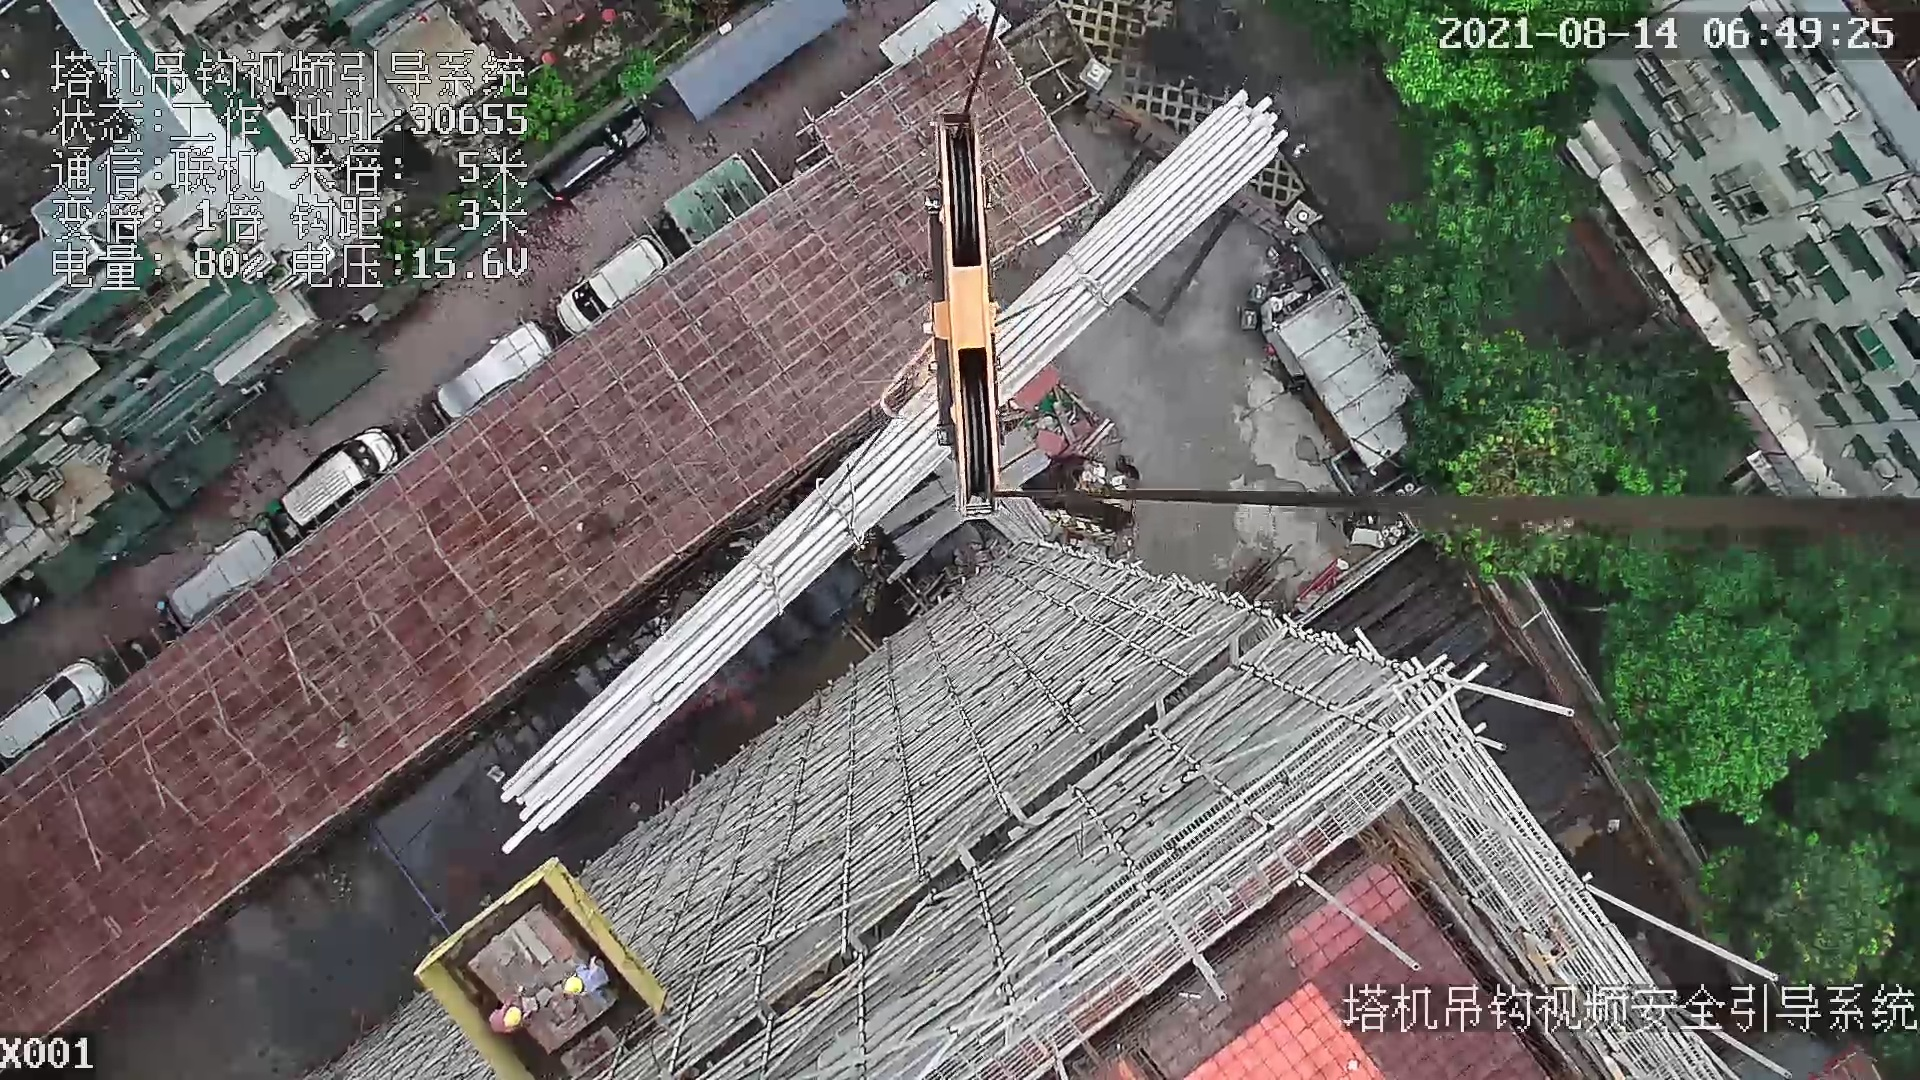helmet: (557, 972, 588, 997), (501, 1006, 527, 1028)
hook: (914, 109, 1014, 524)
person: (485, 982, 536, 1036), (558, 953, 612, 1000)
